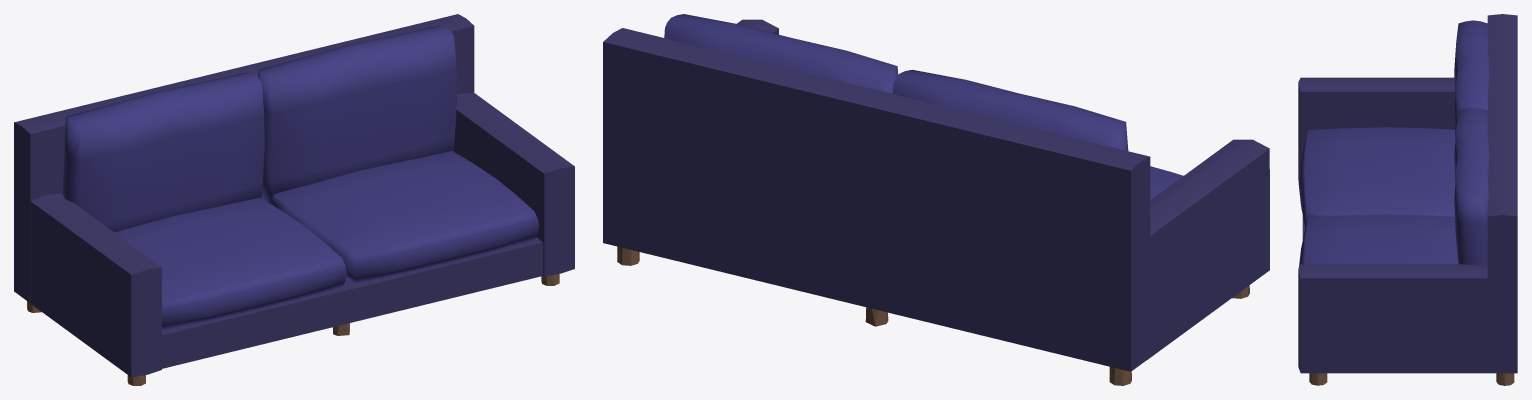
Rendered from COUCH.fbx.
The picture shows the model from 3 angles, left to right: view 1: azimuth 30°, elevation 25°; view 2: azimuth 150°, elevation 25°; view 3: azimuth 270°, elevation 25°; orthographic projection. The views are drawn at different scales.
Parts seen in each view (by area): view 1: Cushion, Couch; view 2: Couch, Cushion; view 3: Couch, Cushion.
Boxes of the visible parts, x1,y1,x2,y2 form: Cushion: (62, 25, 539, 331); Couch: (14, 14, 574, 385); Couch: (603, 19, 1269, 385); Cushion: (664, 14, 1183, 199); Couch: (1298, 14, 1517, 385); Cushion: (1298, 20, 1489, 266).
Bounding box in the file's own units: 1538 × 666 × 710.
